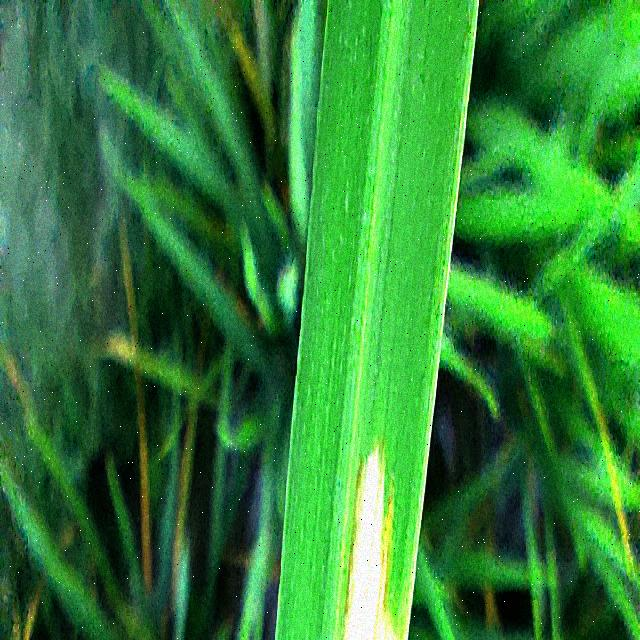BLB: (343, 438, 400, 640)
